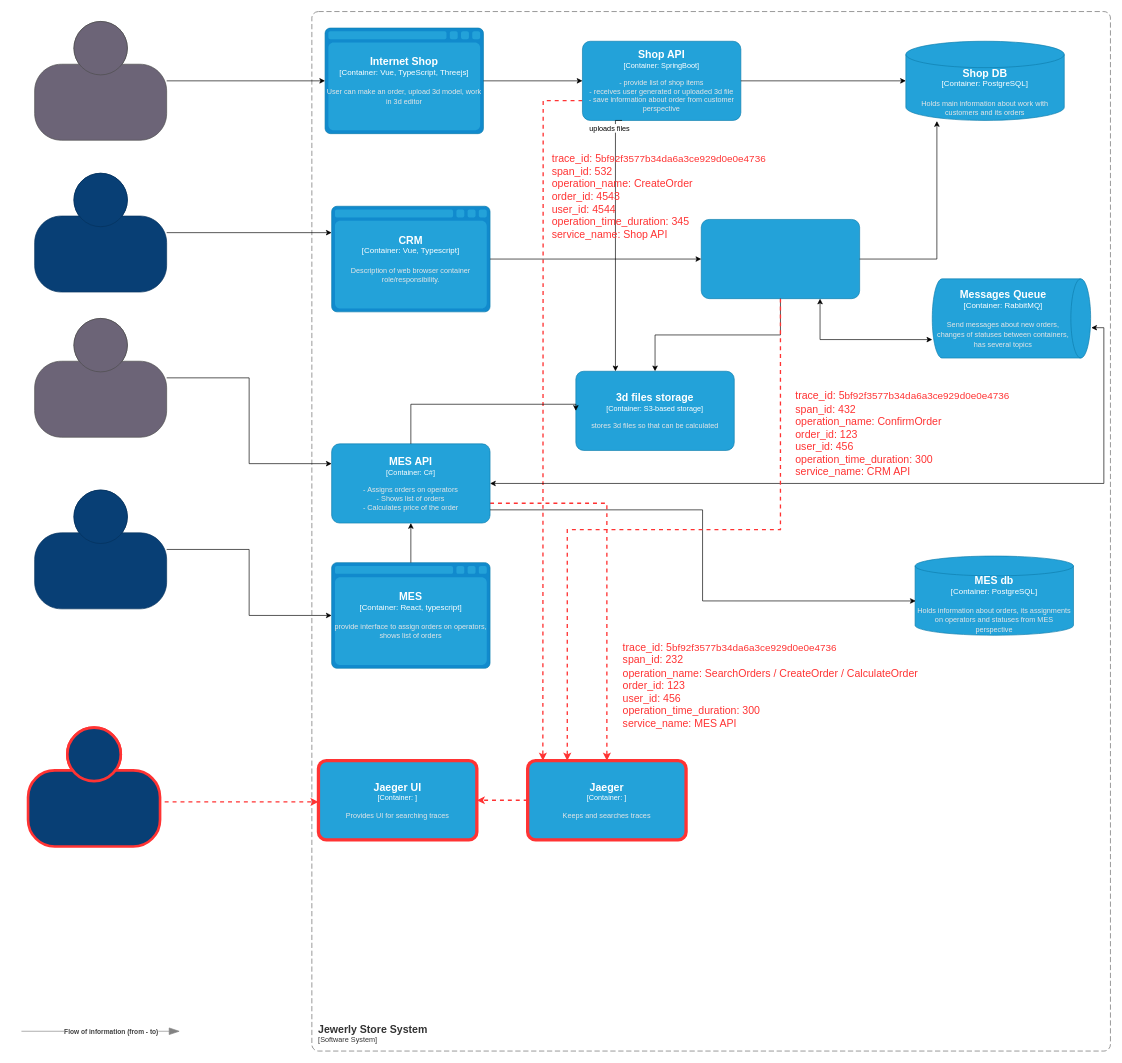
Some shapes in this 1122 by 1063 pixel diagram are drawn without their labels. Each missing label, with the centre of its shape:
API user [Person] Description of external person.: (x=100, y=377)
CRM API [Container: SpringBoot] Description of container role/responsibility.: (x=780, y=259)
Customer [Person] Description of external person.: (x=100, y=80)
Developer [Person] Debug service using tracing: (x=93, y=786)
Operator [Person] Takes order in work, manufactures jewerly: (x=100, y=549)
Seller [Person] Operates with order, confirms manufacturing for the user: (x=100, y=232)
